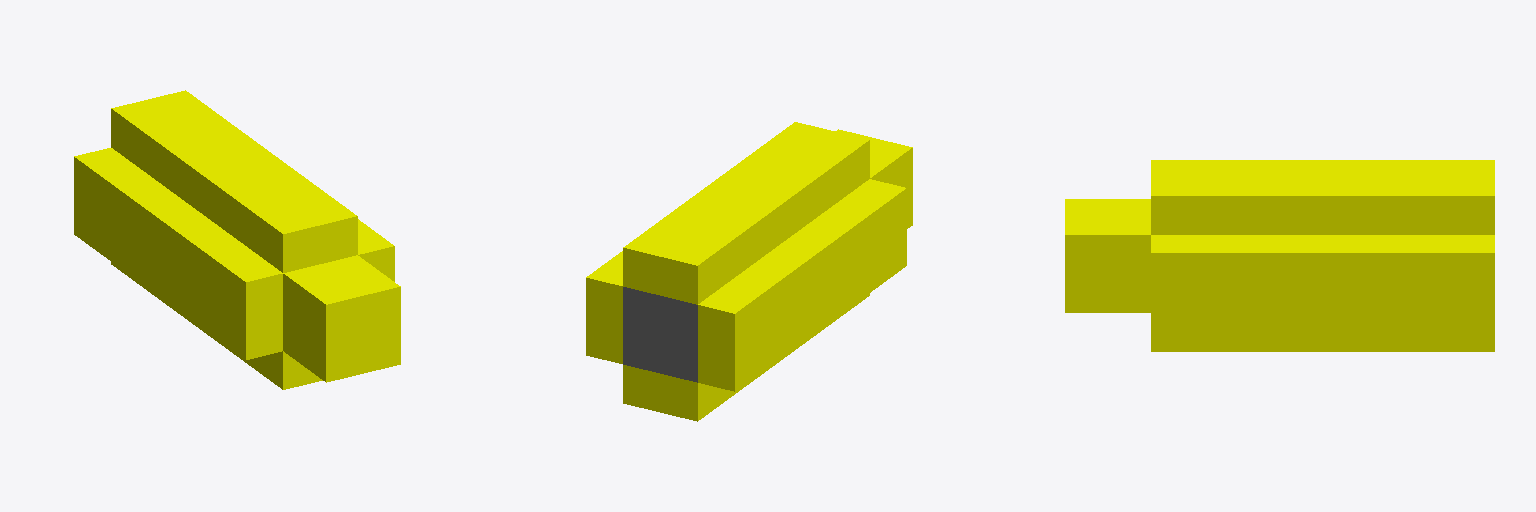
3 renders of one model, left to right at view 1: azimuth 30°, elevation 25°; view 2: azimuth 150°, elevation 25°; view 3: azimuth 270°, elevation 25°, orthographic.
Size of the model in its own units: 4 by 4 by 10.
Materials: 1 (1 with a texture image).